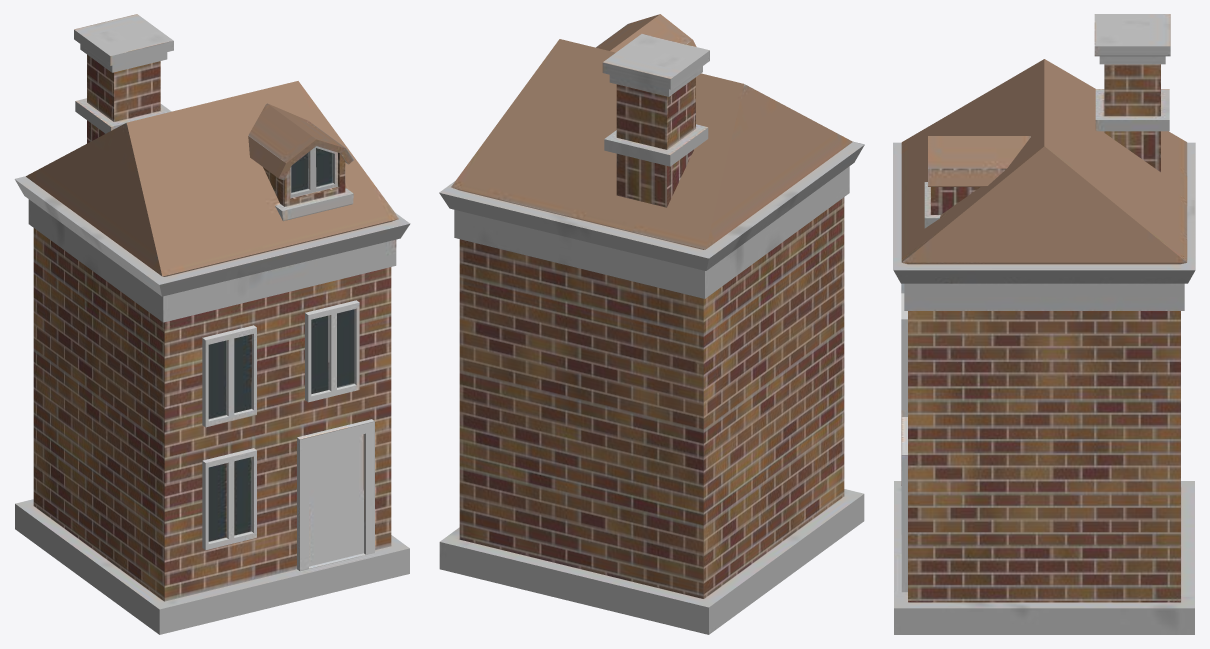
Rendered from House1.glb.
The picture shows the model from 3 angles, left to right: view 1: azimuth 30°, elevation 25°; view 2: azimuth 150°, elevation 25°; view 3: azimuth 270°, elevation 25°; orthographic projection. The views are drawn at different scales.
Visible parts, largest first — view 1: Bake; view 2: Bake; view 3: Bake.
Boxes of the visible parts, x1,y1,x2,y2 form: Bake: (14,14,410,634); Bake: (439,14,864,634); Bake: (893,14,1195,634).
Size of the model in its own units: 8.56 by 16.18 by 8.56.
7 materials, 1 textured.
